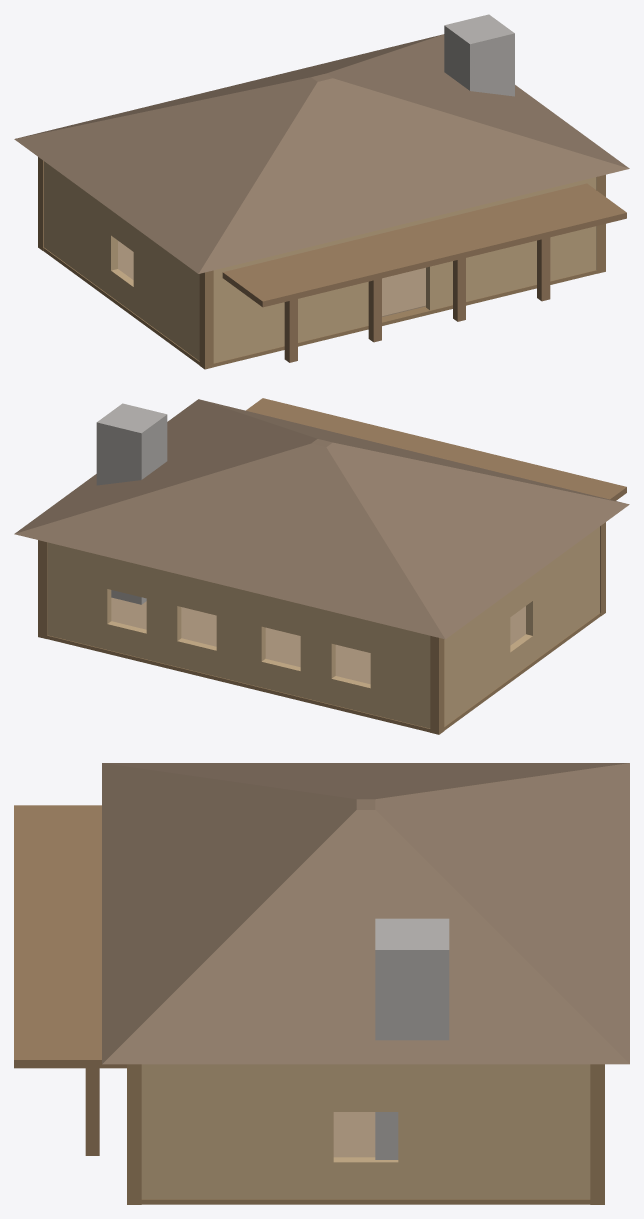
The model's file is lodge.glb.
3 renders of one model, top to bottom at view 1: azimuth 30°, elevation 25°; view 2: azimuth 150°, elevation 25°; view 3: azimuth 270°, elevation 25°, orthographic. The views are drawn at different scales.
Visible parts, largest first — view 1: lodge; view 2: lodge; view 3: lodge.
Part boxes in pixels (bbox=[...]): lodge: bbox=[14, 14, 629, 369]; lodge: bbox=[14, 398, 629, 734]; lodge: bbox=[14, 763, 629, 1204].
Size of the model in its own units: 15.4 by 6.2 by 13.3.
